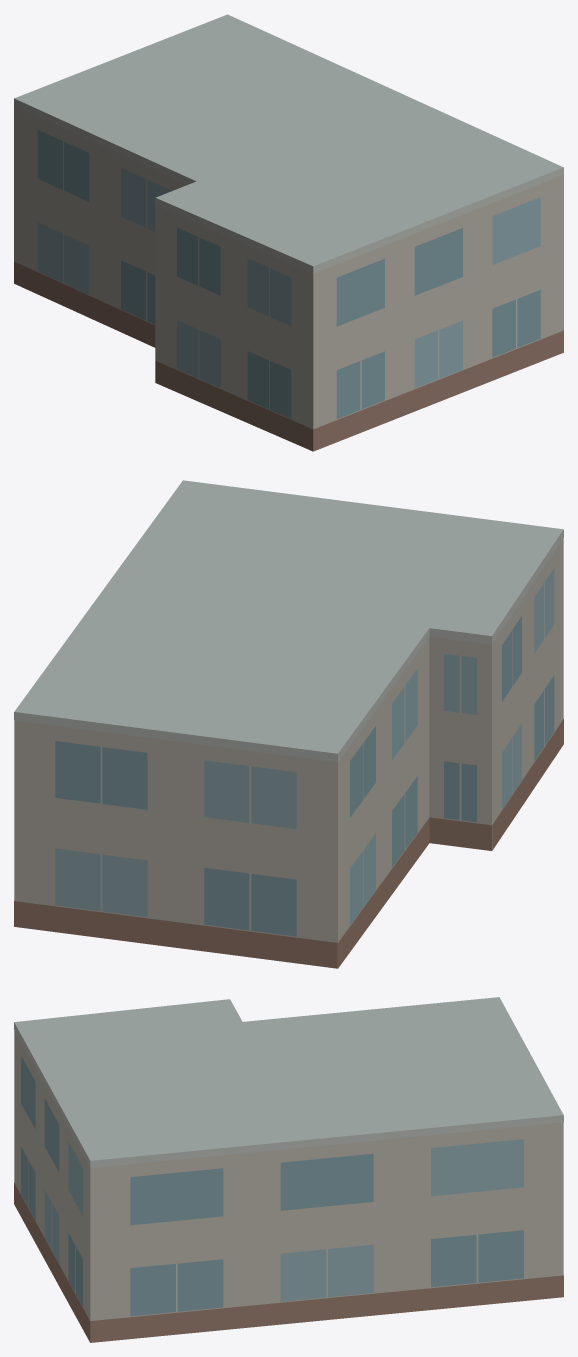
Rendered from survey-upis-32983364.glb.
3 renders of one model, top to bottom at view 1: azimuth 30°, elevation 25°; view 2: azimuth 150°, elevation 25°; view 3: azimuth 270°, elevation 25°, orthographic. The views are drawn at different scales.
Parts seen in each view (by area): view 1: survey-upis-32983364.tmp; view 2: survey-upis-32983364.tmp; view 3: survey-upis-32983364.tmp.
Part boxes in pixels (x1,y1,x2,y2): survey-upis-32983364.tmp: [14, 14, 563, 451]; survey-upis-32983364.tmp: [14, 480, 563, 968]; survey-upis-32983364.tmp: [14, 997, 563, 1342].
Bounding box in the file's own units: 11.79 × 6.1 × 16.71.
